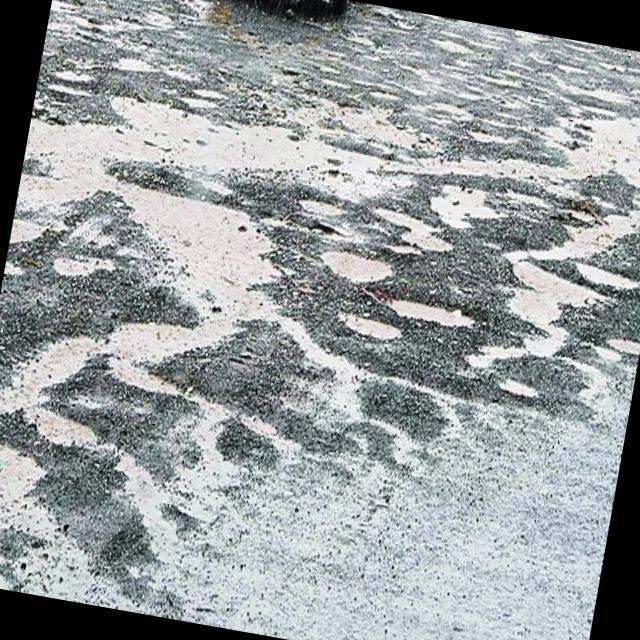Pothole: (109, 92, 362, 198), (116, 185, 283, 328), (490, 245, 578, 352), (381, 286, 477, 332), (431, 178, 490, 230), (317, 246, 391, 286), (336, 305, 398, 350)
